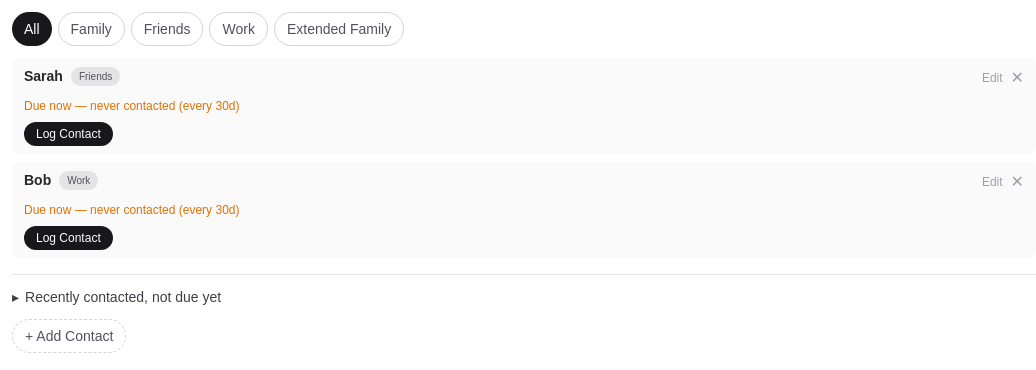
it: ContactsCardBody › shows due contacts in the main list and filters by category
expect the text "Sarah" is shown: met, box [24,66,63,86]
expect the text "Bob" is shown: met, box [24,170,51,190]
What coordinates should you click on to do the following:
click the button "Work"
I would click on:
 (239, 29)
Its box is [210,12,268,46].
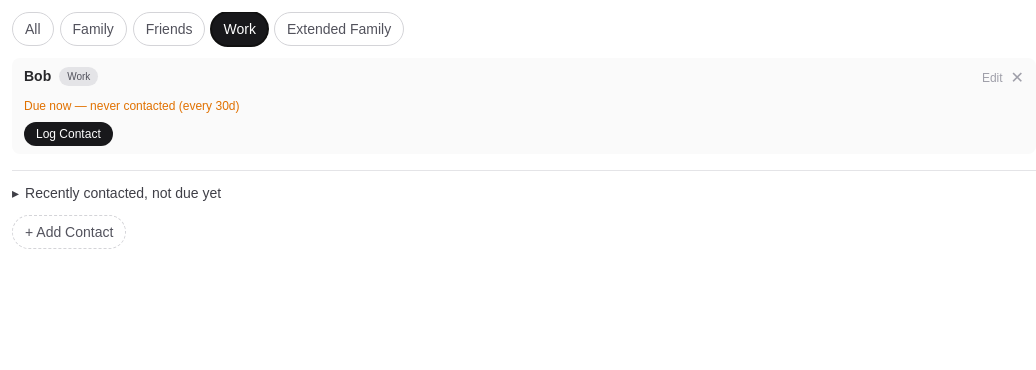
expect the text "Bob" is shown: met, box [24,66,51,86]
expect the text "Sarah" is gone: met
